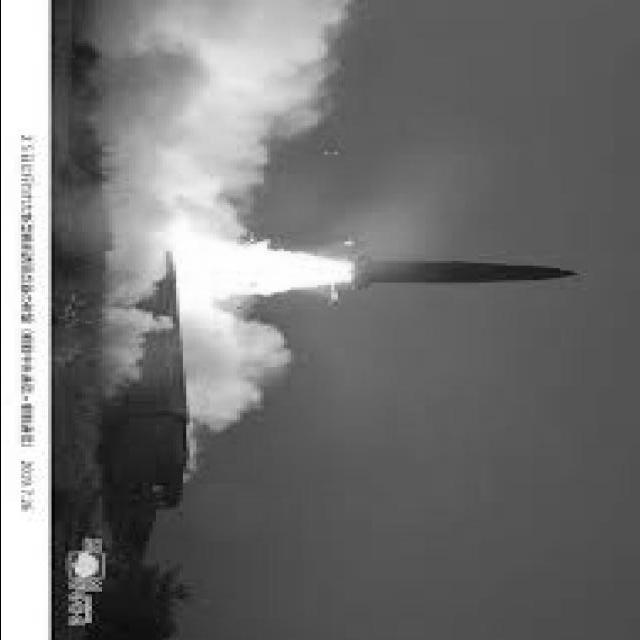missile: (326, 250, 592, 297)
